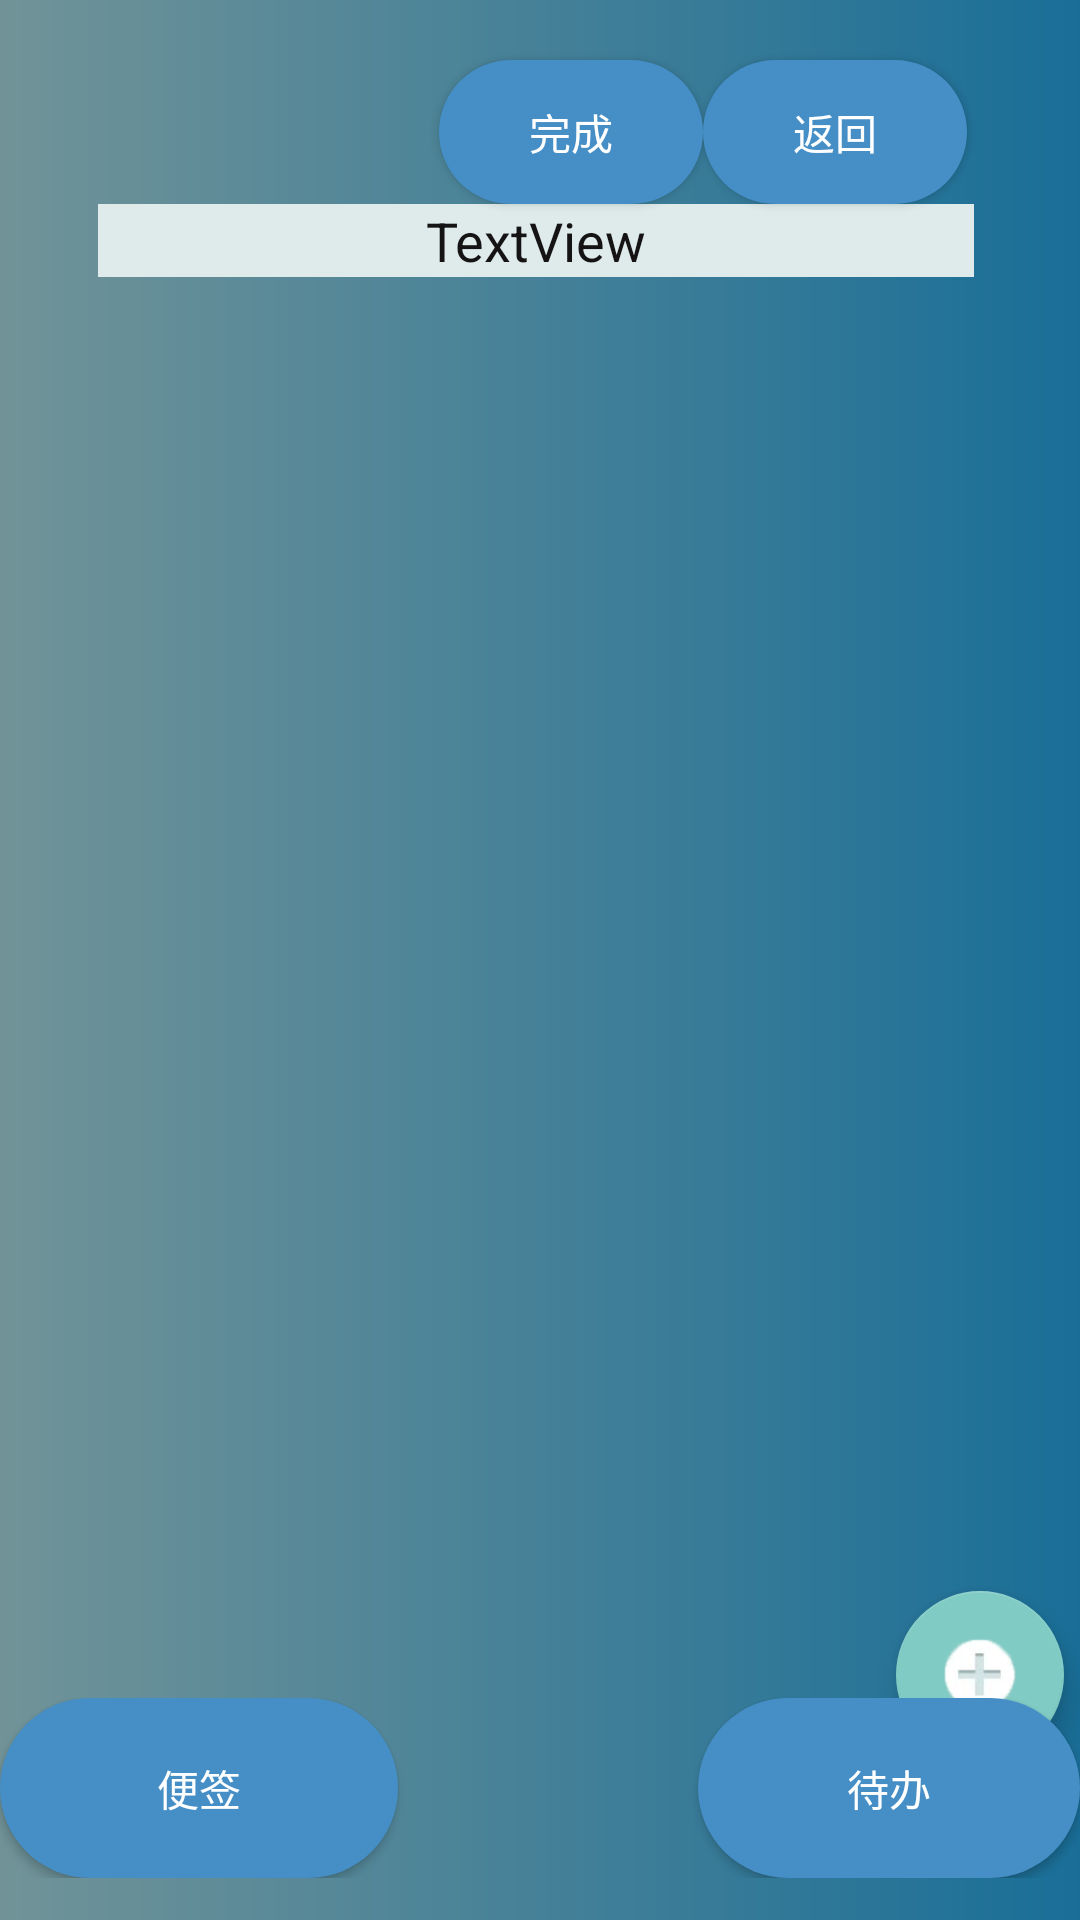

Named icons in this screenshot (1080 x 1920) and their centers, point (x, y):
add list: point (980, 1675)
